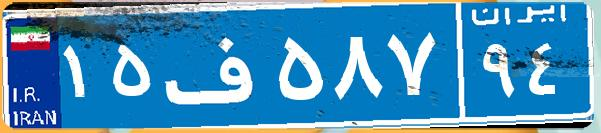1: (57, 26, 110, 107)
4: (525, 38, 570, 115)
5: (273, 28, 330, 110), (110, 28, 158, 105)
7: (385, 28, 445, 110)
8: (330, 28, 385, 110)
9: (475, 38, 525, 113)
ف: (158, 15, 273, 115)
